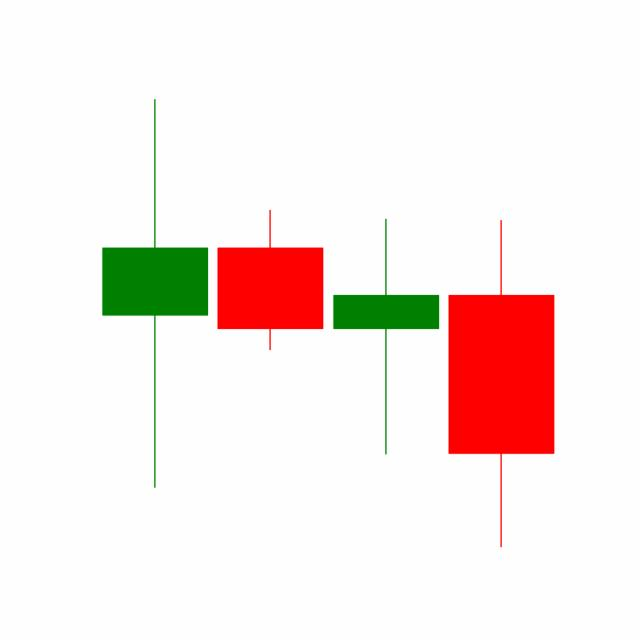Spinning Top: (328, 215, 444, 458)
